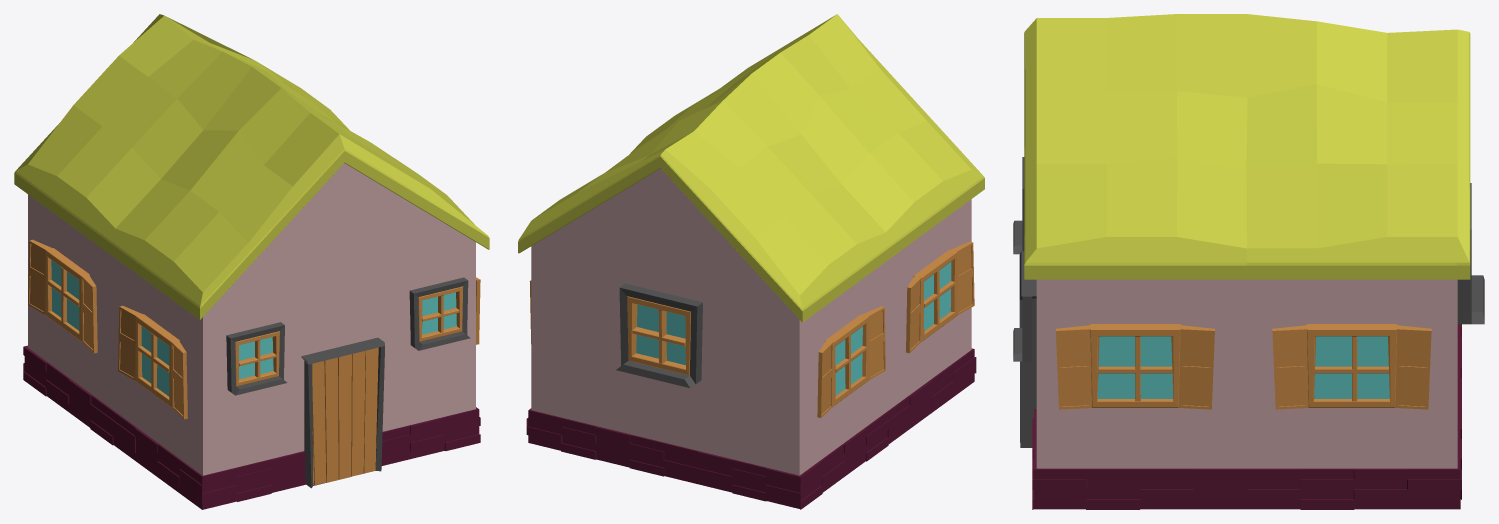
File: house-1.fbx
3 renders of one model, left to right at view 1: azimuth 30°, elevation 25°; view 2: azimuth 150°, elevation 25°; view 3: azimuth 270°, elevation 25°, orthographic. The views are drawn at different scales.
Parts seen in each view (by area): view 1: Cube; view 2: Cube; view 3: Cube.
Boxes of the visible parts, x1=… form: Cube: x1=14, y1=14, x2=489, y2=509; Cube: x1=518, y1=14, x2=984, y2=509; Cube: x1=1013, y1=14, x2=1484, y2=509.
Bounding box in the file's own units: 950 × 1055 × 1088.
